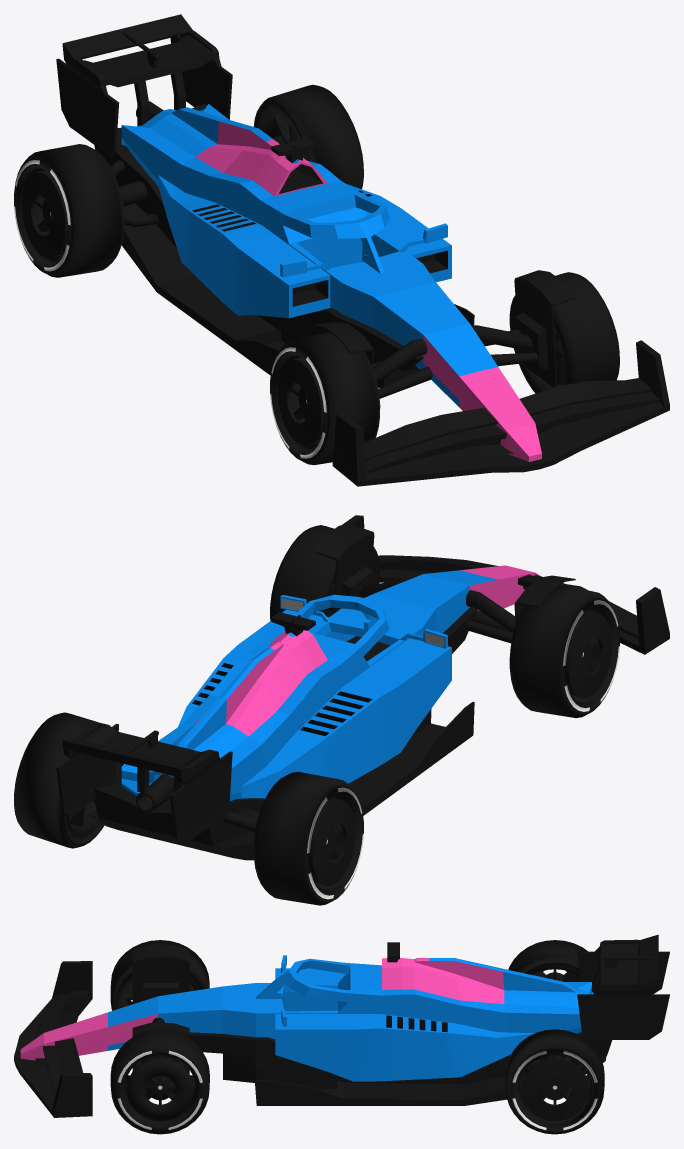
The model's file is alpine_car.glb.
3 views of the same model, one above another, from view 1: azimuth 30°, elevation 25°; view 2: azimuth 150°, elevation 25°; view 3: azimuth 270°, elevation 25° (orthographic). The views are drawn at different scales.
Parts seen in each view (by area): view 1: Base Unsubsurfed, Front Wing Base, Sidepod, Rear Wing, Bottom, RR_Tire, FR_Tire, FL_Tire, RL_Tire, L_Inside Cover, FRod, RRod (+1 smaller); view 2: Base Unsubsurfed, Sidepod, RR_Tire, FR_Tire, Rear Wing, Bottom, RL_Tire, Front Wing Base, FL_Tire, L_Inside Cover, FRod, R_Inside Cover (+3 smaller); view 3: Base Unsubsurfed, Sidepod, Bottom, RL_Tire, FL_Tire, Rear Wing, Front Wing Base, R_Inside Cover, RR_Tire, FR_Tire, L_Inside Cover.
Boxes of the visible parts, x1,y1,x2,y2 form: Base Unsubsurfed: [121, 104, 541, 461]; Front Wing Base: [332, 340, 669, 486]; Sidepod: [158, 175, 451, 318]; Rear Wing: [56, 14, 232, 157]; Bottom: [94, 103, 474, 387]; RR_Tire: [14, 144, 124, 277]; FR_Tire: [270, 332, 380, 464]; FL_Tire: [509, 272, 619, 393]; RL_Tire: [253, 84, 363, 189]; L_Inside Cover: [514, 270, 575, 387]; FRod: [373, 325, 538, 398]; RRod: [110, 160, 158, 227]; Base Unsubsurfed: [121, 565, 539, 801]; Sidepod: [178, 609, 451, 798]; RR_Tire: [253, 771, 363, 905]; FR_Tire: [509, 585, 619, 718]; Rear Wing: [56, 722, 232, 843]; Bottom: [87, 607, 477, 860]; RL_Tire: [14, 712, 123, 848]; Front Wing Base: [342, 515, 669, 654]; FL_Tire: [270, 525, 380, 620]; L_Inside Cover: [313, 524, 374, 614]; FRod: [353, 576, 515, 643]; R_Inside Cover: [514, 575, 575, 624]; Base Unsubsurfed: [20, 955, 593, 1060]; Sidepod: [275, 968, 534, 1081]; Bottom: [189, 1032, 612, 1105]; RL_Tire: [505, 1029, 604, 1134]; FL_Tire: [110, 1031, 209, 1134]; Rear Wing: [577, 934, 669, 1039]; Front Wing Base: [14, 961, 92, 1117]; R_Inside Cover: [132, 945, 189, 1003]; RR_Tire: [508, 940, 587, 981]; FR_Tire: [110, 940, 209, 1010]; L_Inside Cover: [132, 1023, 189, 1089].
Bounding box in the file's own units: 5.15 × 2.77 × 12.15.
